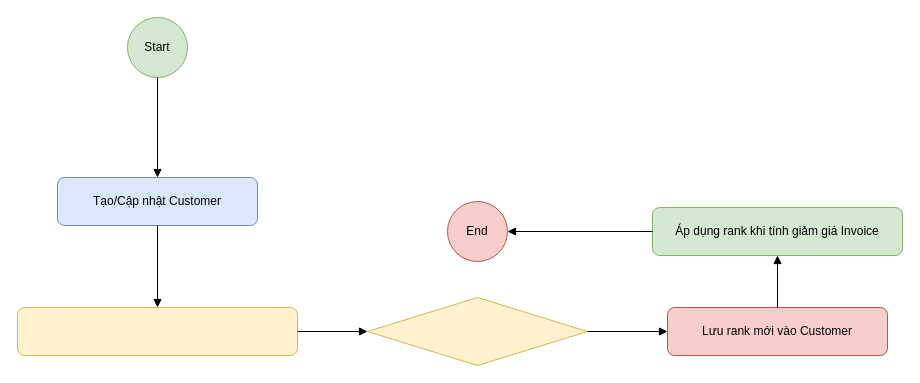
This 920x383 diagram has some shape labels left out. The box of each missing label's shape, as (x1, y1, x2, y2) in pixels:
Cộng totalSpent theo hóa đơn đã thanh toán: (16, 306, 298, 356)
Xác định CustomerRank\n(BRONZE/SILVER/GOLD/...): (366, 296, 588, 366)
